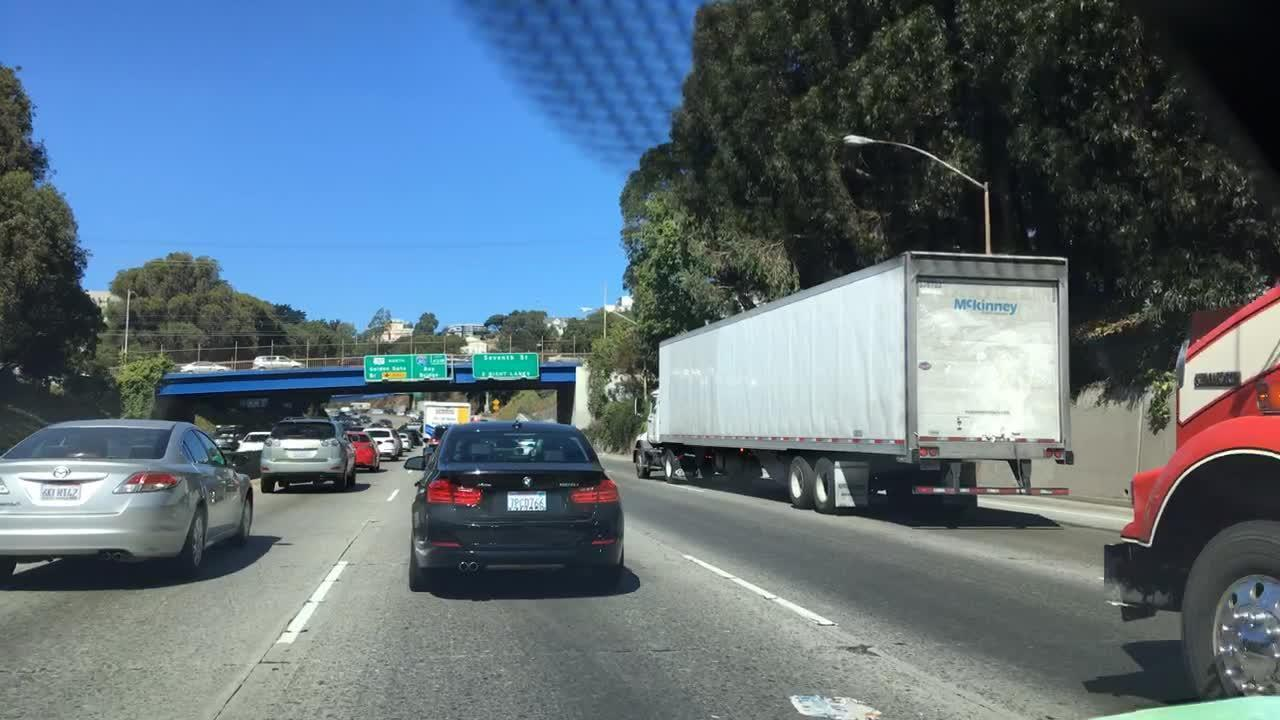Mazda: (53, 465, 75, 486)
bmw: (520, 472, 534, 490)
